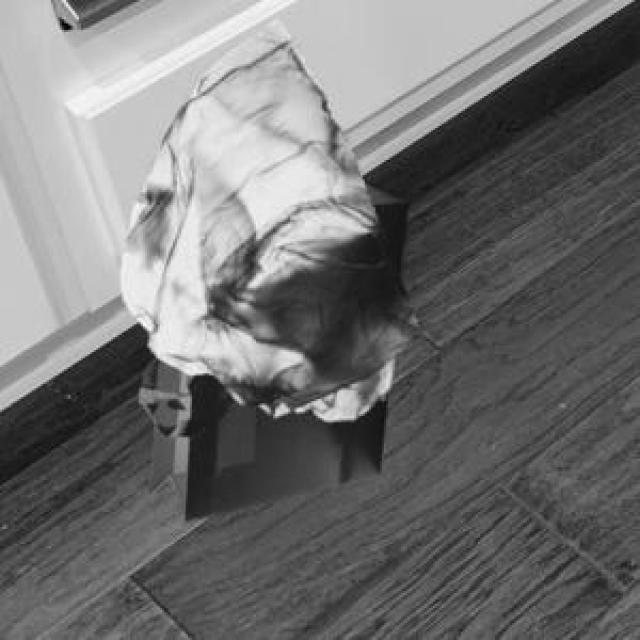paper: (137, 179, 403, 516)
